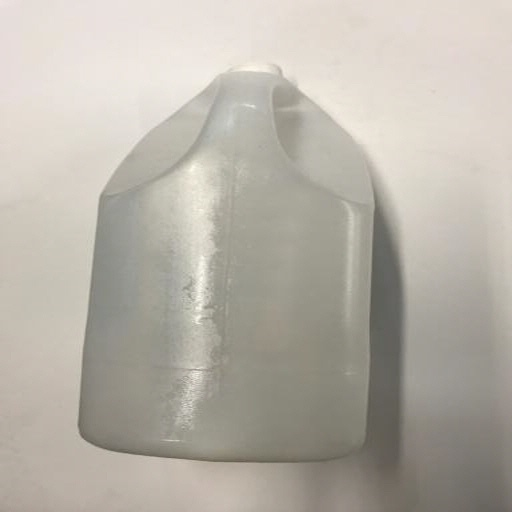Plastic_1: (77, 59, 372, 468)
